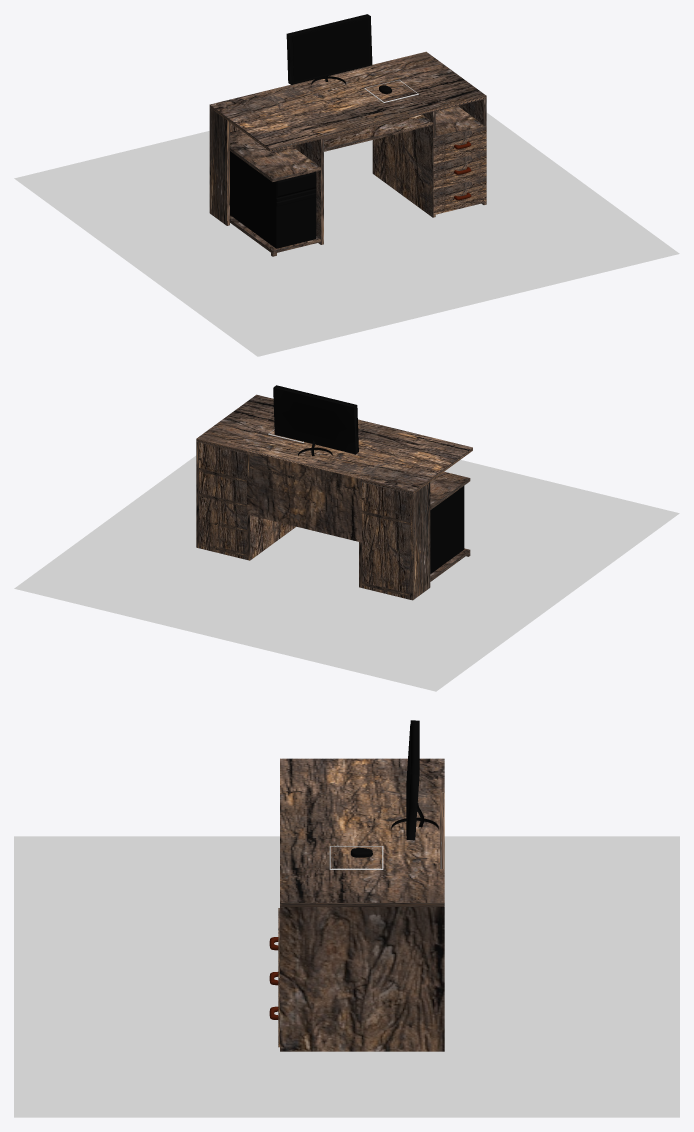
Rendered from computer_table.glb.
3 renders of one model, top to bottom at view 1: azimuth 30°, elevation 25°; view 2: azimuth 150°, elevation 25°; view 3: azimuth 270°, elevation 25°, orthographic. The views are drawn at different scales.
Visible parts, largest first — view 1: Plane.001, Cube.005, proccessor, Cube.008, monitor_panel, Cube.011, Cube.006, Cube.010, Cube.022, Cube.023, Cube.021, Cube.009 (+3 smaller); view 2: Plane.001, Cube.005, Cube.014, Cube.016, Cube.015, monitor, proccessor, Cube.006, Cube.008, Cube.011, Cube.012; view 3: Plane.001, Cube.007, Cube.005, monitor.
Boxes of the visible parts, <box> form: Plane.001: <box>14,113,679,356</box>; Cube.005: <box>209,51,486,151</box>; proccessor: <box>230,151,316,248</box>; Cube.008: <box>372,111,435,217</box>; monitor_panel: <box>292,18,369,82</box>; Cube.011: <box>229,130,320,181</box>; Cube.006: <box>211,109,229,225</box>; Cube.010: <box>323,114,433,151</box>; Cube.022: <box>433,126,486,163</box>; Cube.023: <box>433,177,486,214</box>; Cube.021: <box>433,151,486,189</box>; Cube.009: <box>292,138,323,244</box>; Plane.001: <box>14,455,679,691</box>; Cube.005: <box>196,394,472,494</box>; Cube.014: <box>247,450,362,542</box>; Cube.016: <box>362,482,413,600</box>; Cube.015: <box>199,442,246,559</box>; monitor: <box>273,385,358,454</box>; proccessor: <box>430,486,464,573</box>; Cube.006: <box>410,482,430,599</box>; Cube.008: <box>247,454,295,560</box>; Cube.011: <box>362,471,470,524</box>; Cube.012: <box>362,548,470,596</box>; Plane.001: <box>14,836,679,1117</box>; Cube.007: <box>280,907,444,1051</box>; Cube.005: <box>280,758,444,906</box>; monitor: <box>406,720,419,840</box>.
Size of the model in its own units: 15.53 by 6.02 by 15.53.
9 materials, 2 textured.
